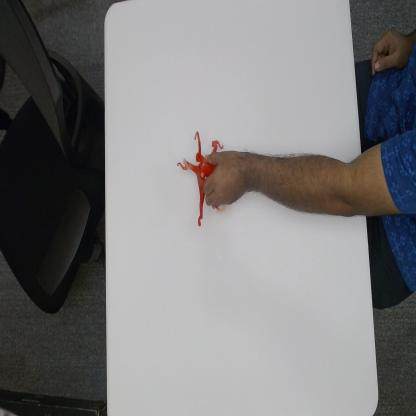Arm: (262, 147, 376, 219)
Hand: (201, 148, 260, 208)
Octopus: (175, 129, 227, 228)
